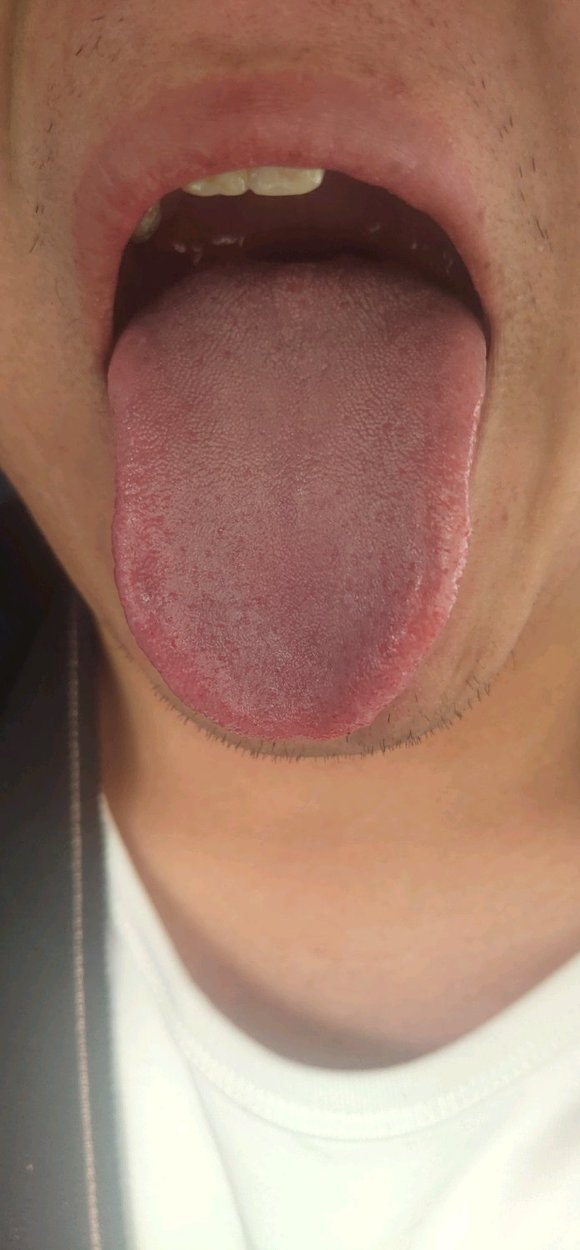baitaishe: (106, 255, 488, 741)
hongshe: (106, 255, 488, 741)
